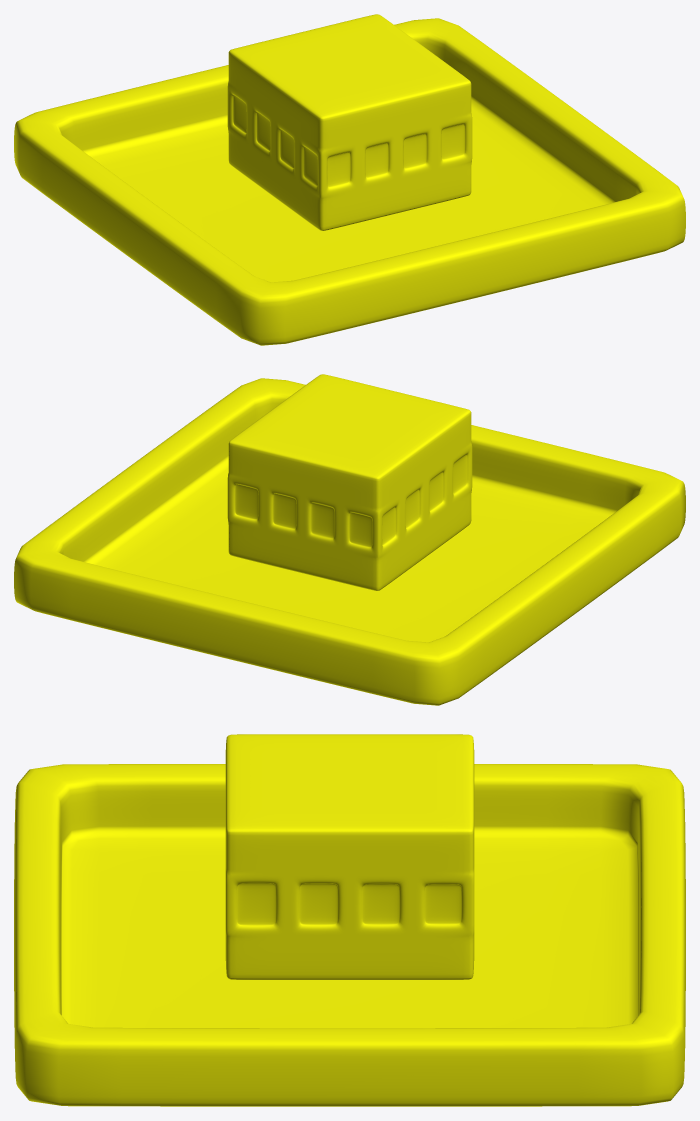
The picture shows the model from 3 angles, top to bottom: view 1: azimuth 30°, elevation 25°; view 2: azimuth 150°, elevation 25°; view 3: azimuth 270°, elevation 25°; orthographic projection. The views are drawn at different scales.
Parts seen in each view (by area): view 1: polySurface143733; view 2: polySurface143733; view 3: polySurface143733.
Boxes of the visible parts, x1,y1,x2,y2 form: polySurface143733: [14, 14, 685, 345]; polySurface143733: [14, 374, 685, 705]; polySurface143733: [14, 734, 685, 1106].
Size of the model in its own units: 1.15 by 0.48 by 1.15.
